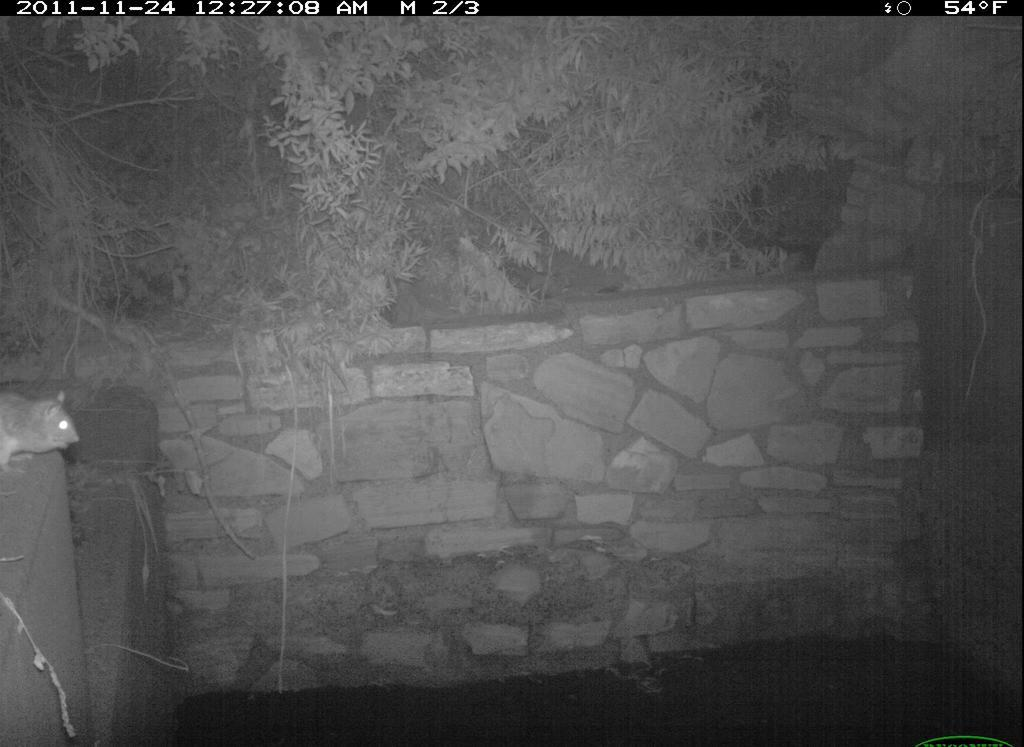rodent: (4, 379, 85, 469)
